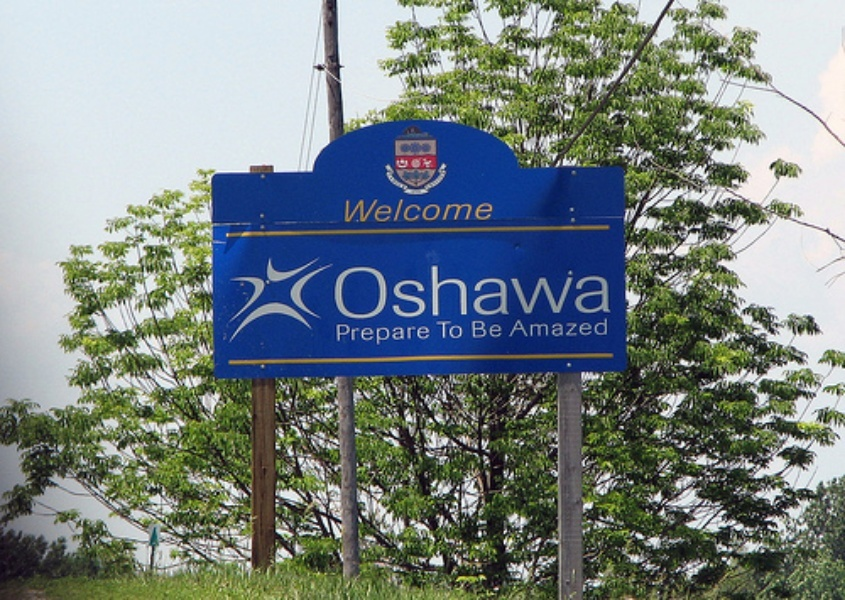text: (337, 266, 352, 318), (353, 266, 368, 318), (369, 266, 384, 318), (385, 266, 400, 318), (401, 266, 416, 318), (417, 266, 432, 318), (433, 266, 448, 318), (449, 266, 464, 318), (465, 266, 480, 318), (481, 266, 496, 318), (497, 266, 512, 318), (513, 266, 528, 318), (529, 266, 544, 318), (545, 266, 560, 318), (561, 266, 576, 318), (577, 266, 592, 318), (593, 266, 608, 318), (353, 198, 368, 222), (369, 198, 384, 222), (385, 198, 400, 222), (401, 198, 416, 222), (417, 198, 432, 222), (433, 198, 448, 222), (449, 198, 464, 222), (465, 198, 480, 222), (337, 323, 352, 345), (353, 323, 368, 345), (369, 323, 384, 345), (385, 323, 400, 345), (401, 323, 416, 345), (481, 198, 494, 222), (417, 323, 430, 345), (481, 320, 496, 339), (513, 318, 528, 337), (529, 318, 544, 337), (545, 318, 560, 337), (561, 318, 576, 337), (577, 318, 592, 337), (593, 318, 607, 337), (435, 320, 448, 339), (449, 320, 462, 339), (470, 320, 480, 339), (345, 198, 352, 222), (333, 266, 336, 318), (609, 266, 611, 318), (497, 320, 502, 339), (509, 318, 512, 337)
